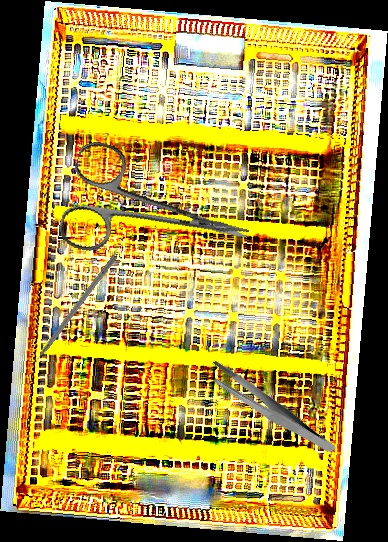Dressing Forceps: (203, 337, 338, 481)
Hook Surgical: (25, 253, 118, 372)
Iris Scissors: (55, 138, 261, 290)
